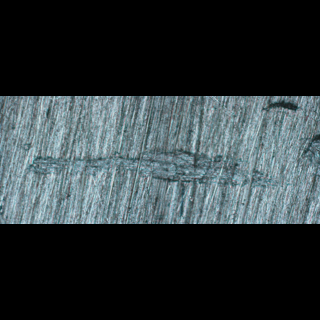d: (25, 148, 278, 192)
